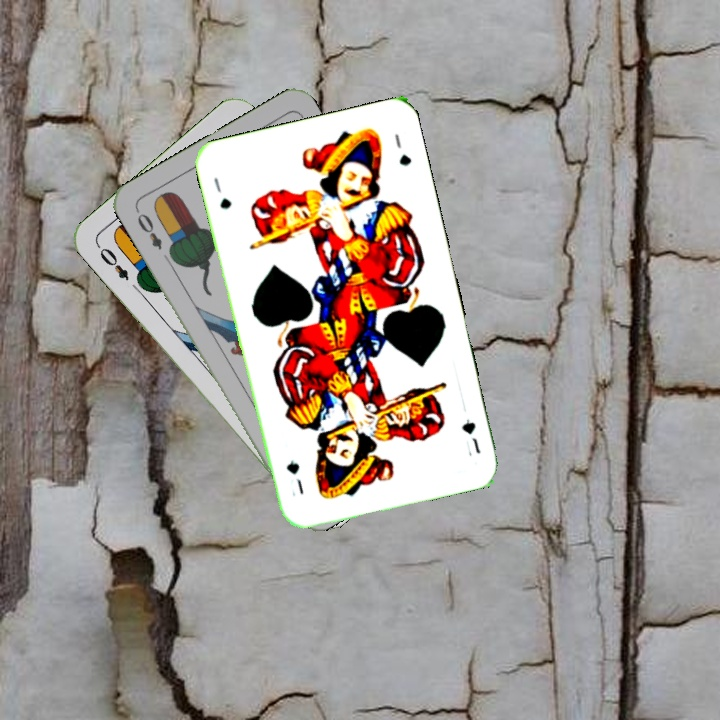EO: (92, 240, 132, 283), (131, 205, 165, 253)
GU: (458, 415, 483, 459), (209, 173, 234, 212)
